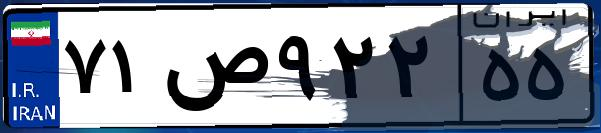1: (110, 28, 158, 98)
2: (385, 28, 445, 110), (330, 28, 385, 110)
5: (475, 38, 525, 113), (525, 38, 570, 115)
7: (57, 26, 110, 100)
9: (270, 28, 330, 110)
ص: (158, 20, 270, 120)
